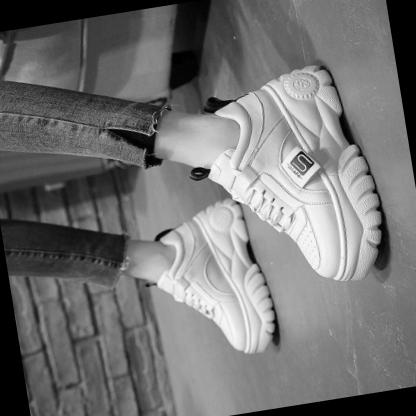ankle: (241, 127, 245, 131), (177, 255, 179, 257)
heel: (194, 221, 197, 223), (263, 90, 266, 92)
left_foot: (213, 58, 392, 298)
pinky: (332, 218, 336, 222), (232, 340, 234, 343)
right_foot: (156, 194, 281, 366)
toe: (243, 329, 248, 334), (315, 266, 318, 268)
